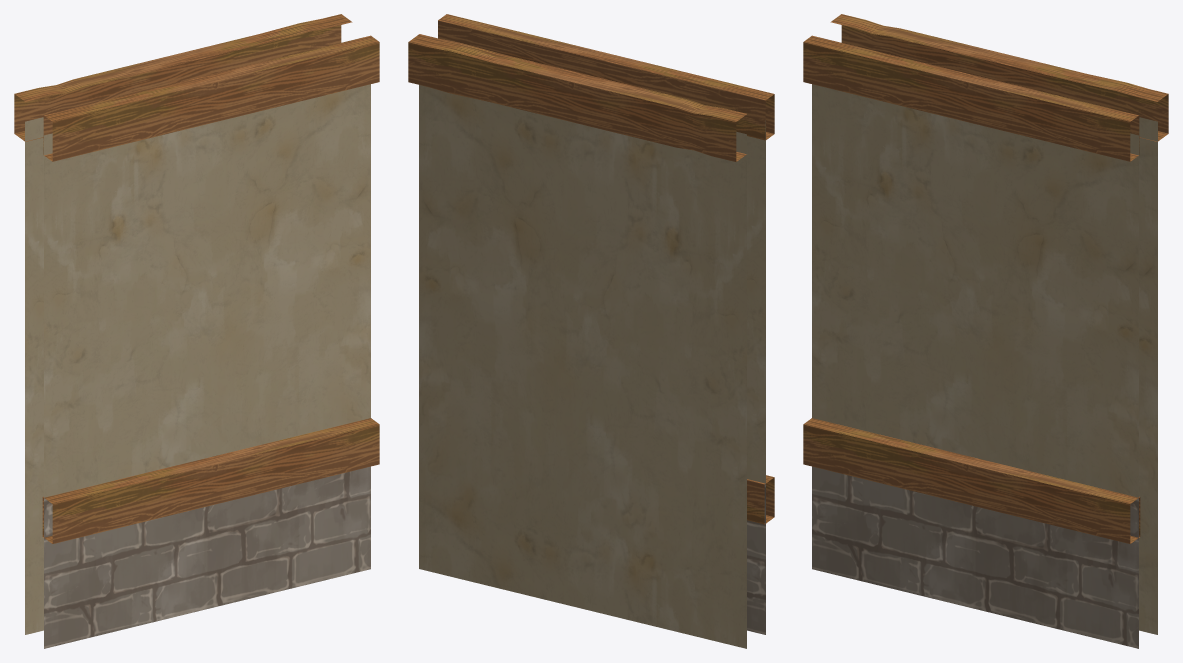
Rendered from Wall_Plaster_Straight_Base.glb.
3 renders of one model, left to right at view 1: azimuth 30°, elevation 25°; view 2: azimuth 150°, elevation 25°; view 3: azimuth 330°, elevation 25°, orthographic.
Parts seen in each view (by area): view 1: Wall_Plaster_Straight_Base; view 2: Wall_Plaster_Straight_Base; view 3: Wall_Plaster_Straight_Base.
Boxes of the visible parts, x1=… form: Wall_Plaster_Straight_Base: x1=14, y1=14, x2=379, y2=648; Wall_Plaster_Straight_Base: x1=408, y1=14, x2=774, y2=648; Wall_Plaster_Straight_Base: x1=803, y1=14, x2=1168, y2=648.
Size of the model in its own units: 2 by 3.12 by 0.4065.
Materials: 3 (3 with a texture image).
